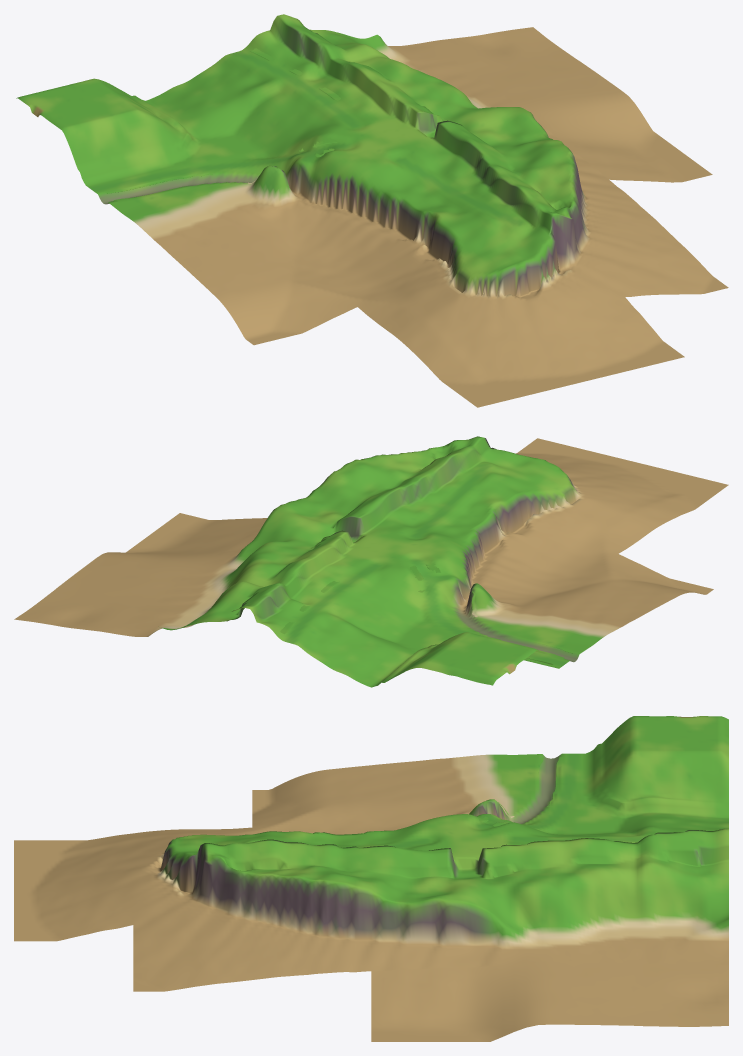
The model's file is terrain.glb.
The picture shows the model from 3 angles, top to bottom: view 1: azimuth 30°, elevation 25°; view 2: azimuth 150°, elevation 25°; view 3: azimuth 270°, elevation 25°; orthographic projection. The views are drawn at different scales.
Parts seen in each view (by area): view 1: terrain_3_5, terrain_3_6, terrain_4_5; view 2: terrain_3_5, terrain_3_6, terrain_4_5; view 3: terrain_3_5, terrain_3_6, terrain_4_5.
Part boxes in pixels (left/top/right/bottom): terrain_3_5: left=16, top=14, right=668, bottom=345; terrain_3_6: left=358, top=196, right=728, bottom=407; terrain_4_5: left=429, top=27, right=712, bottom=182; terrain_3_5: left=110, top=451, right=713, bottom=687; terrain_3_6: left=421, top=436, right=728, bottom=553; terrain_4_5: left=14, top=513, right=267, bottom=632; terrain_3_5: left=252, top=716, right=728, bottom=979; terrain_3_6: left=14, top=827, right=252, bottom=991; terrain_4_5: left=371, top=962, right=728, bottom=1041.
Size of the model in its own units: 225 by 37.17 by 270.
